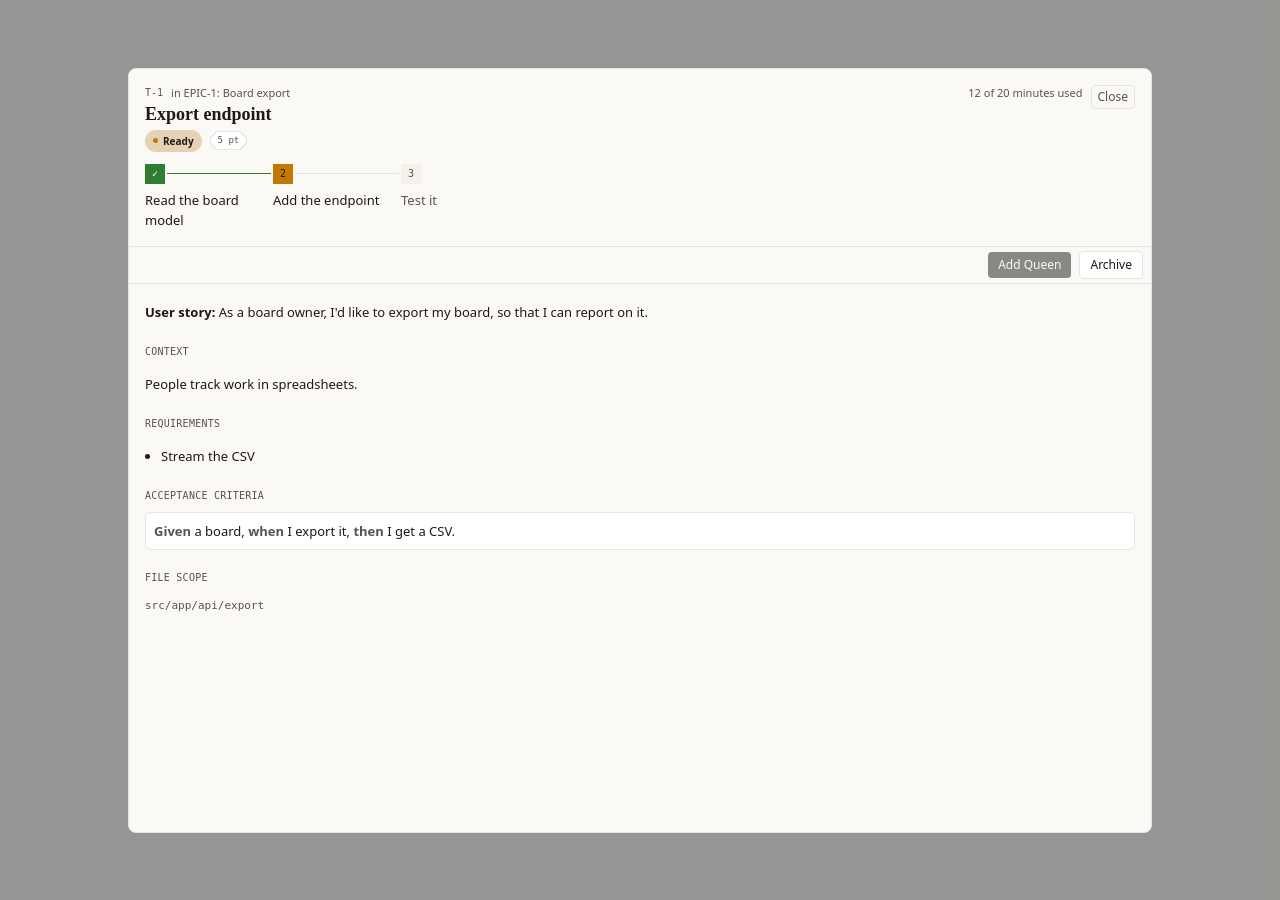
TicketDrawer archive › shows the error and stays open when archiving fails
Click the button "Archive" at (1111, 264), box [1080, 250, 1143, 278]
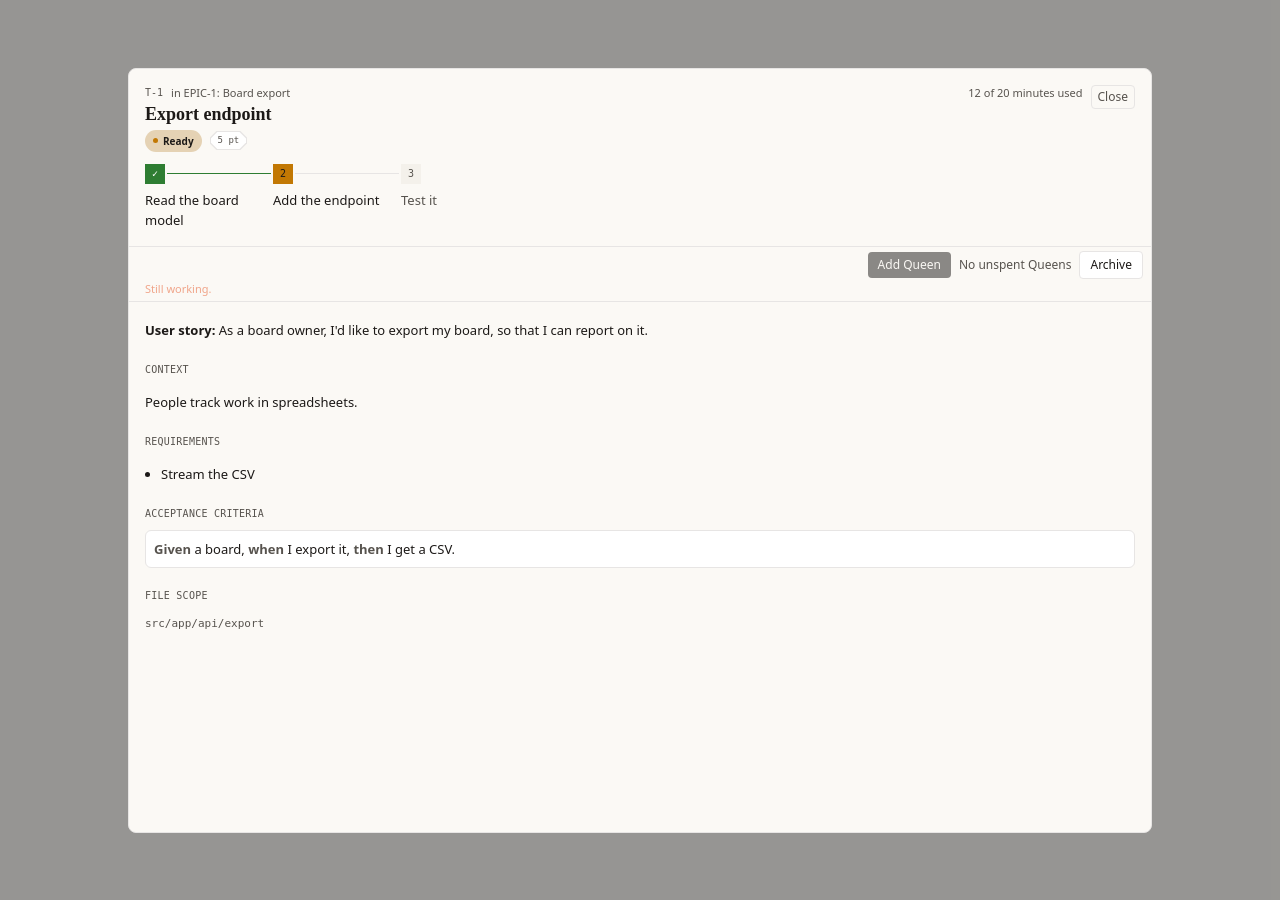
expect the message reads "Still working.": met, box [145, 280, 212, 296]
